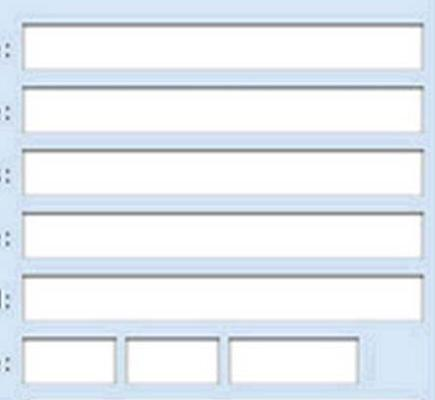field: (21, 146, 426, 200), (18, 84, 427, 137), (15, 19, 424, 71), (21, 212, 424, 263), (18, 274, 424, 324), (227, 338, 358, 387), (122, 337, 221, 387), (18, 337, 116, 387)
